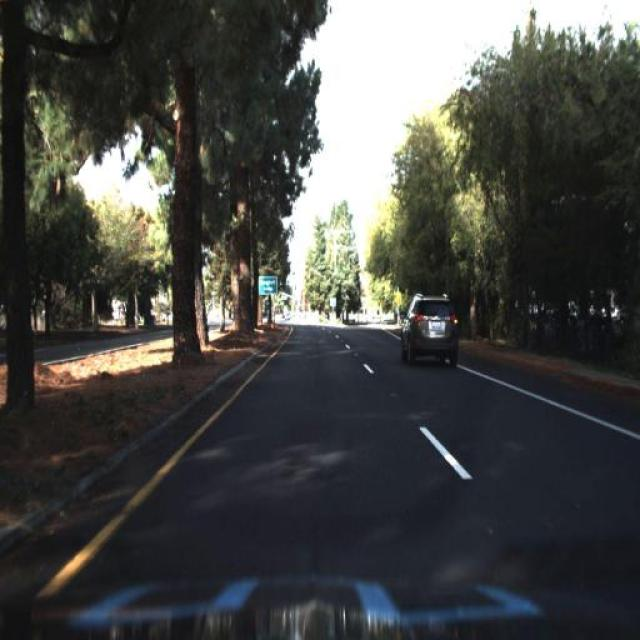car: (392, 292, 456, 368)
